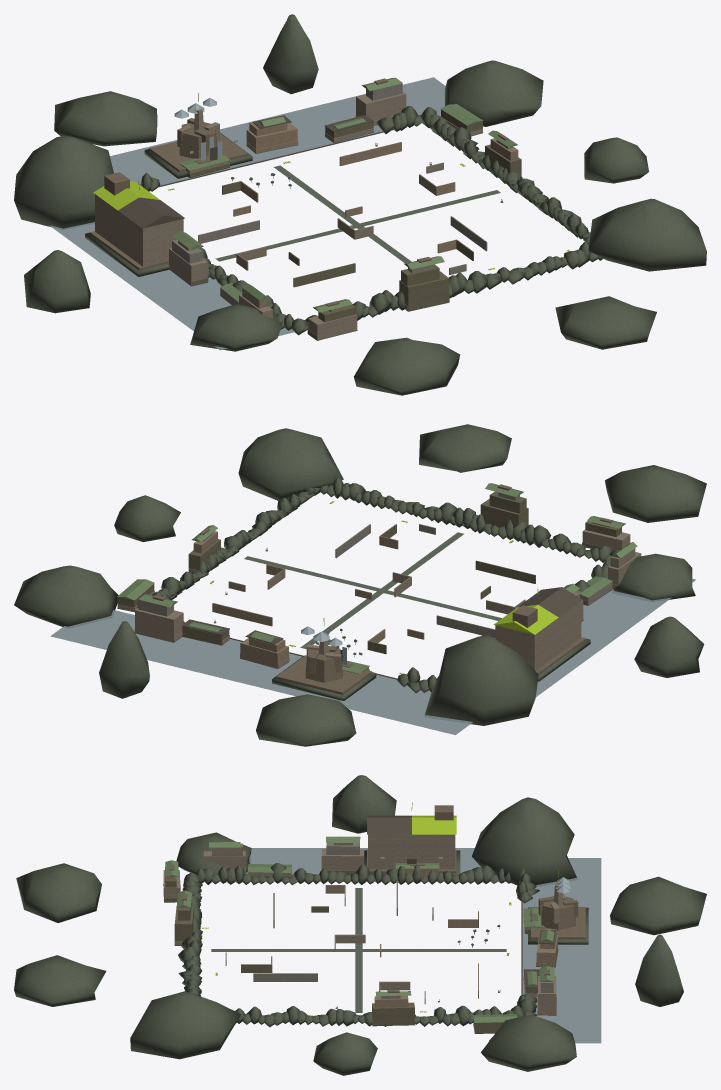
File: kohan-lod2.glb
The picture shows the model from 3 angles, top to bottom: view 1: azimuth 30°, elevation 25°; view 2: azimuth 150°, elevation 25°; view 3: azimuth 270°, elevation 25°; orthographic projection. The views are drawn at different scales.
Parts seen in each view (by area): view 1: HB_kohan_LOD2_terrain, HB_kohan_LOD2_water, HB_kohan_LOD2_wall, HB_kohan_LOD2_wall_weathered, HB_kohan_LOD2_wall_warm, HB_kohan_LOD2_LANDMARK_1_wall, HB_kohan_LOD2_roof, HB_kohan_LOD2_wall_cool, HB_kohan_LOD2_road, HB_kohan_LOD2_LANDMARK_0_wall_alt, HB_kohan_LOD2_LANDMARK_1_trim, HB_kohan_LOD2_trim (+4 smaller); view 2: HB_kohan_LOD2_terrain, HB_kohan_LOD2_water, HB_kohan_LOD2_wall_weathered, HB_kohan_LOD2_wall, HB_kohan_LOD2_wall_warm, HB_kohan_LOD2_LANDMARK_1_wall, HB_kohan_LOD2_roof, HB_kohan_LOD2_LANDMARK_0_wall_alt, HB_kohan_LOD2_road, HB_kohan_LOD2_wall_cool, HB_kohan_LOD2_LANDMARK_1_trim, HB_kohan_LOD2_LANDMARK_1_accent (+3 smaller); view 3: HB_kohan_LOD2_terrain, HB_kohan_LOD2_water, HB_kohan_LOD2_wall, HB_kohan_LOD2_LANDMARK_1_wall, HB_kohan_LOD2_wall_weathered, HB_kohan_LOD2_roof, HB_kohan_LOD2_road, HB_kohan_LOD2_wall_warm, HB_kohan_LOD2_LANDMARK_0_wall_alt, HB_kohan_LOD2_wall_cool, HB_kohan_LOD2_LANDMARK_1_trim, HB_kohan_LOD2_LANDMARK_1_accent (+2 smaller).
Boxes of the visible parts, x1=… form: HB_kohan_LOD2_terrain: x1=14, y1=14, x2=706, y2=395; HB_kohan_LOD2_water: x1=49, y1=77, x2=445, y2=350; HB_kohan_LOD2_wall: x1=169, y1=92, x2=503, y2=339; HB_kohan_LOD2_wall_weathered: x1=186, y1=109, x2=521, y2=339; HB_kohan_LOD2_wall_warm: x1=178, y1=116, x2=518, y2=312; HB_kohan_LOD2_LANDMARK_1_wall: x1=95, y1=194, x2=183, y2=266; HB_kohan_LOD2_roof: x1=173, y1=78, x2=517, y2=312; HB_kohan_LOD2_wall_cool: x1=172, y1=77, x2=521, y2=304; HB_kohan_LOD2_road: x1=215, y1=165, x2=500, y2=263; HB_kohan_LOD2_LANDMARK_0_wall_alt: x1=149, y1=118, x2=247, y2=172; HB_kohan_LOD2_LANDMARK_1_trim: x1=118, y1=197, x2=184, y2=228; HB_kohan_LOD2_trim: x1=156, y1=115, x2=502, y2=270; HB_kohan_LOD2_terrain: x1=14, y1=424, x2=706, y2=746; HB_kohan_LOD2_water: x1=50, y1=578, x2=695, y2=734; HB_kohan_LOD2_wall_weathered: x1=117, y1=491, x2=621, y2=670; HB_kohan_LOD2_wall: x1=118, y1=529, x2=641, y2=674; HB_kohan_LOD2_wall_warm: x1=134, y1=522, x2=610, y2=668; HB_kohan_LOD2_LANDMARK_1_wall: x1=495, y1=601, x2=581, y2=670; HB_kohan_LOD2_roof: x1=117, y1=483, x2=637, y2=673; HB_kohan_LOD2_LANDMARK_0_wall_alt: x1=276, y1=645, x2=371, y2=694; HB_kohan_LOD2_road: x1=244, y1=532, x2=501, y2=649; HB_kohan_LOD2_wall_cool: x1=138, y1=492, x2=612, y2=638; HB_kohan_LOD2_LANDMARK_1_trim: x1=518, y1=587, x2=582, y2=617; HB_kohan_LOD2_LANDMARK_1_accent: x1=494, y1=589, x2=558, y2=634; HB_kohan_LOD2_terrain: x1=14, y1=775, x2=706, y2=1075; HB_kohan_LOD2_water: x1=190, y1=848, x2=601, y2=1043; HB_kohan_LOD2_wall: x1=163, y1=843, x2=556, y2=1032; HB_kohan_LOD2_LANDMARK_1_wall: x1=368, y1=834, x2=455, y2=869; HB_kohan_LOD2_wall_weathered: x1=164, y1=864, x2=537, y2=1033; HB_kohan_LOD2_roof: x1=165, y1=836, x2=555, y2=1022; HB_kohan_LOD2_road: x1=211, y1=888, x2=506, y2=1012; HB_kohan_LOD2_wall_warm: x1=167, y1=842, x2=557, y2=1014; HB_kohan_LOD2_LANDMARK_0_wall_alt: x1=531, y1=896, x2=585, y2=939; HB_kohan_LOD2_wall_cool: x1=225, y1=842, x2=553, y2=1025; HB_kohan_LOD2_LANDMARK_1_trim: x1=367, y1=815, x2=416, y2=864; HB_kohan_LOD2_LANDMARK_1_accent: x1=411, y1=802, x2=456, y2=834.
Bounding box in the file's own units: 575 × 65.17 × 623.
13 materials, 11 textured.
